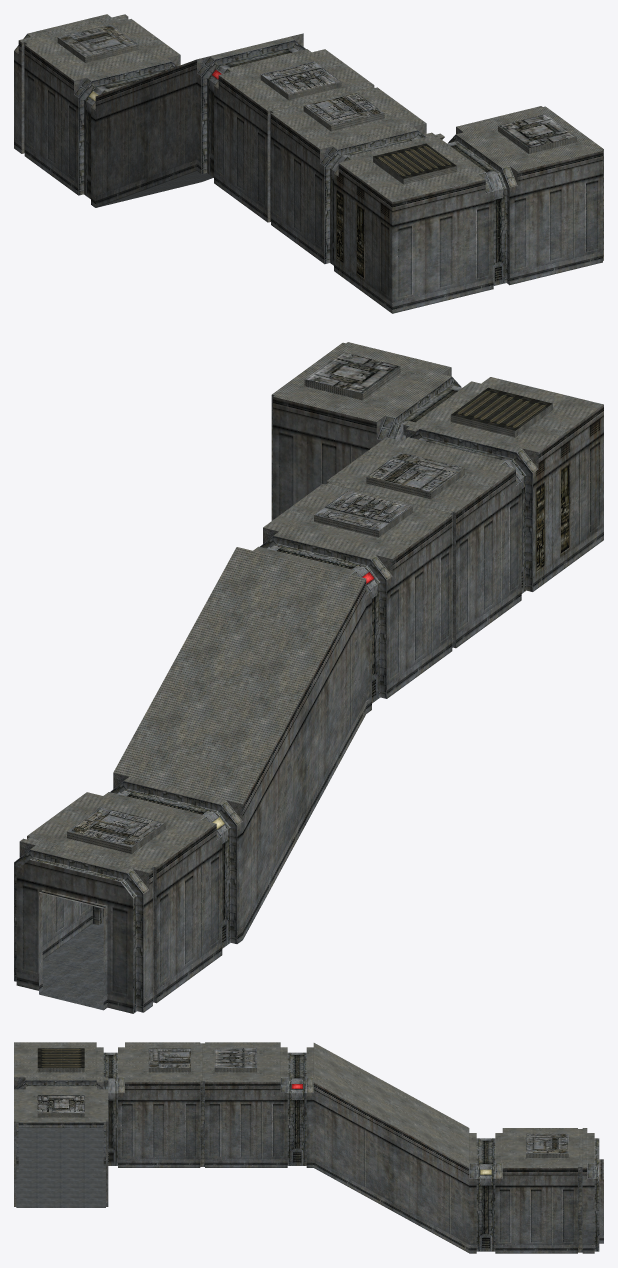
The model's file is poi_all_impl_bunker_abandoned_s01_r16_ramp7_mesh.fbx.
3 renders of one model, top to bottom at view 1: azimuth 30°, elevation 25°; view 2: azimuth 150°, elevation 25°; view 3: azimuth 270°, elevation 25°, orthographic. The views are drawn at different scales.
Parts seen in each view (by area): view 1: mesh_node; view 2: mesh_node; view 3: mesh_node.
Part boxes in pixels (left/top/right/bottom): mesh_node: left=14, top=14, right=603, bottom=313; mesh_node: left=14, top=342, right=603, bottom=1013; mesh_node: left=14, top=1042, right=603, bottom=1253.
Size of the model in its own units: 8 by 8.2 by 25.
